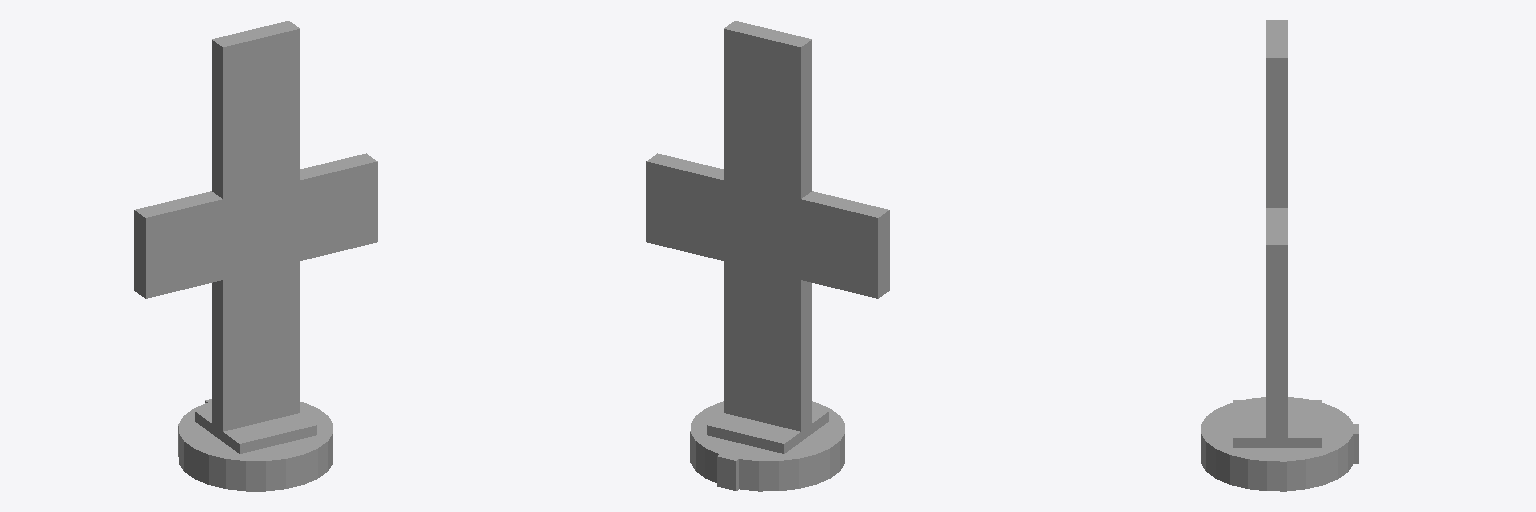
robot.urdf — cutter:
<?xml version="1.0" encoding="utf-8"?>
<!-- This URDF was automatically created by SolidWorks to URDF Exporter! Originally created by [author] ([email redacted]) 
     Commit Version: 1.6.0-4-g7f85cfe  Build Version: 1.6.7995.38578
     For more information, please see http://wiki.ros.org/sw_urdf_exporter -->
<robot
  name="cutter">
  <link
    name="base_link">
    <inertial>
      <origin
        xyz="-5.55111512312578E-17 0.000131288128801255 0.14933332391133"
        rpy="0 0 0" />
      <mass
        value="1.11388593420623" />
      <inertia
        ixx="0.0183745836145232"
        ixy="5.68067392054574E-20"
        ixz="-2.52441420322314E-18"
        iyy="0.0200204795749076"
        iyz="1.96449052887922E-05"
        izz="0.00267273481296689" />
    </inertial>
    <visual>
      <origin
        xyz="0 0 0"
        rpy="0 0 0" />
      <geometry>
        <mesh
          filename="package://cutter/meshes/base_link.STL" />
      </geometry>
      <material
        name="cutter_color">
        <color
          rgba="0.698039215686274 0.698039215686274 0.698039215686274 1" />
      </material>
    </visual>
    <collision>
      <origin
        xyz="0 0 0"
        rpy="0 0 0" />
      <geometry>
        <mesh
          filename="package://cutter/meshes/base_link.STL" />
      </geometry>
    </collision>
  </link>
</robot>

--- What the picture shows (computed from the rendered views, not written in the file) ---
The picture shows the robot from 3 angles, left to right: view 1: azimuth 30°, elevation 25°; view 2: azimuth 150°, elevation 25°; view 3: azimuth 270°, elevation 25°; orthographic projection.
Robot: cutter — 1 links, 0 joints (none); root link base_link; default pose: all joints at 0.
Visible links, largest first — view 1: base_link; view 2: base_link; view 3: base_link.
Link boxes in pixels (x1,y1,x2,y2): base_link: (134,21,377,491); base_link: (646,21,889,491); base_link: (1201,20,1358,491).
Bounding box of the posed robot: 0.24 × 0.1434 × 0.42 m (x, y, z).
Meshes: 1 distinct files referenced, 1 mesh visuals loaded (1 binary STL).